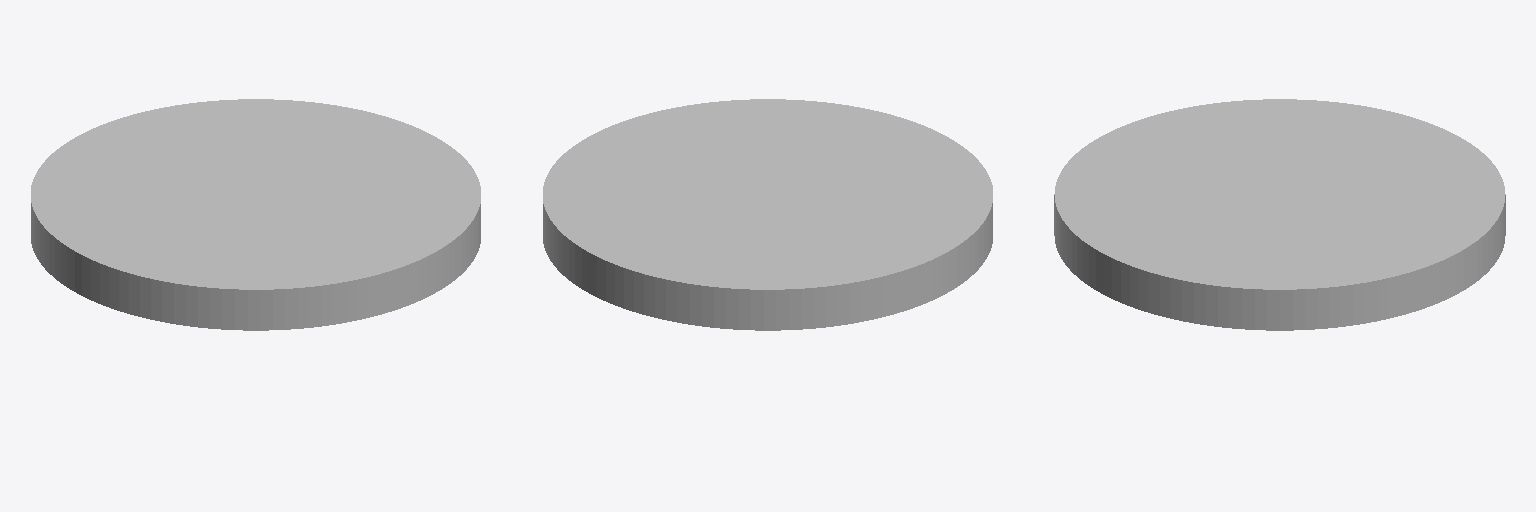
The model's file is TestBlade.obj.
The picture shows the model from 3 angles: view 1: azimuth 30°, elevation 25°; view 2: azimuth 150°, elevation 25°; view 3: azimuth 270°, elevation 25°; orthographic projection.
Size of the model in its own units: 3.3 by 0.993 by 3.3.